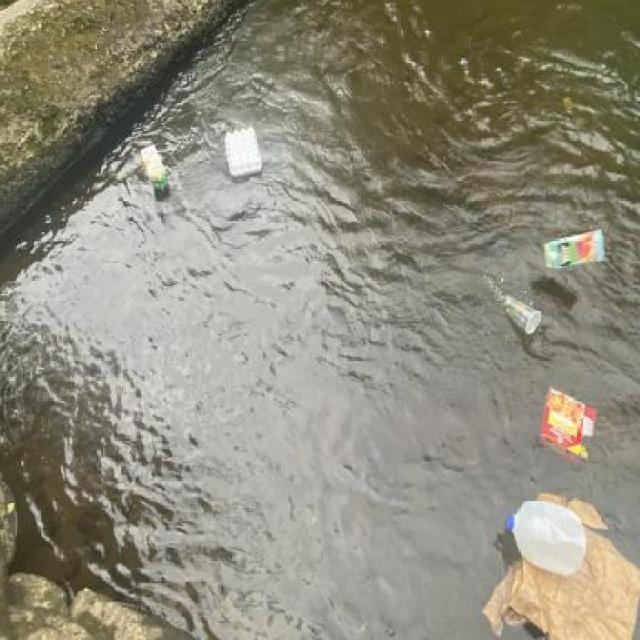Cardboard: (537, 382, 599, 470), (538, 225, 609, 274), (138, 138, 173, 195)
Paper: (477, 489, 640, 640)
Plastic: (498, 492, 582, 578), (498, 284, 543, 344), (219, 125, 264, 180)
